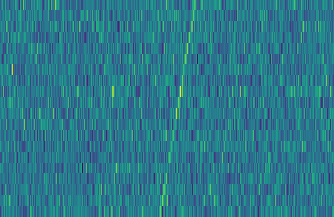signal: (156, 0, 201, 217)
